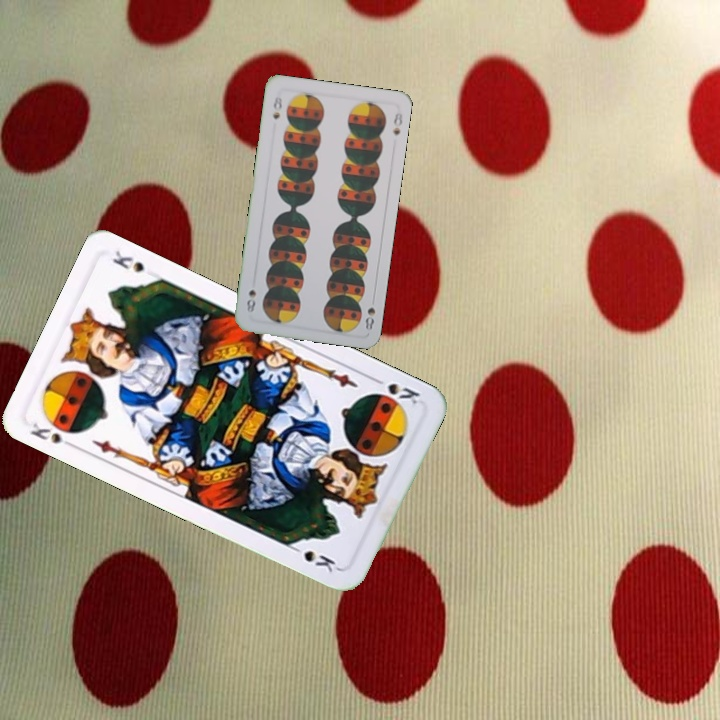S8: (361, 292, 378, 332), (269, 92, 285, 122)
SK: (368, 373, 423, 407), (26, 418, 80, 449)
